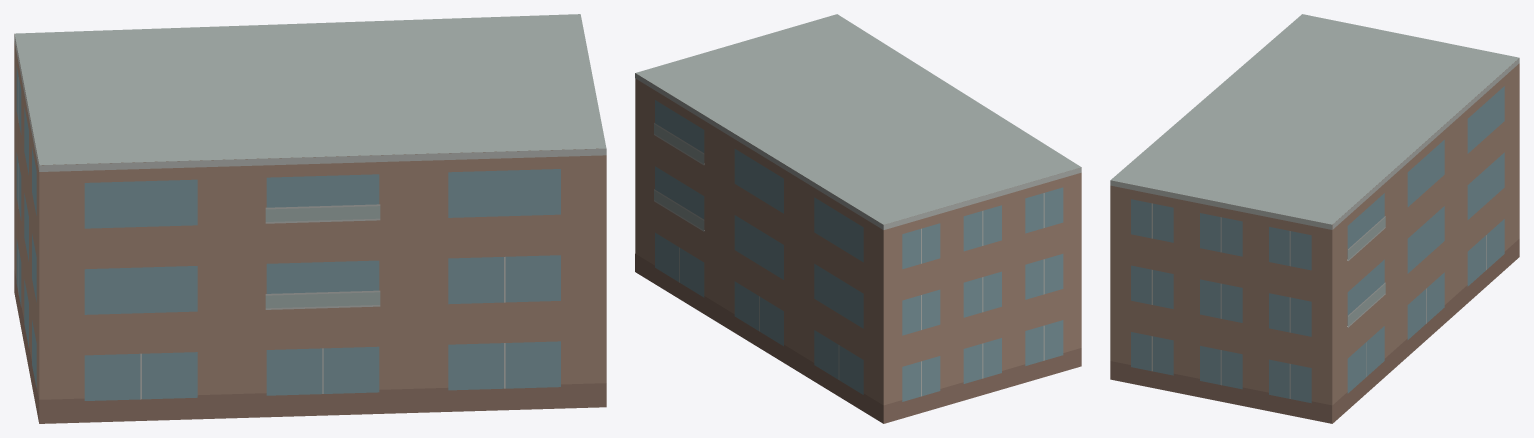
File: survey-upis-32553113.glb
The picture shows the model from 3 angles, left to right: view 1: azimuth 30°, elevation 25°; view 2: azimuth 150°, elevation 25°; view 3: azimuth 270°, elevation 25°; orthographic projection. The views are drawn at different scales.
Visible parts, largest first — view 1: survey-upis-32553113.tmp; view 2: survey-upis-32553113.tmp; view 3: survey-upis-32553113.tmp.
Part boxes in pixels (left/top/right/bottom): survey-upis-32553113.tmp: left=14, top=14, right=606, bottom=423; survey-upis-32553113.tmp: left=635, top=14, right=1081, bottom=423; survey-upis-32553113.tmp: left=1110, top=14, right=1519, bottom=423.
Size of the model in its own units: 20.77 by 9.15 by 17.05.
